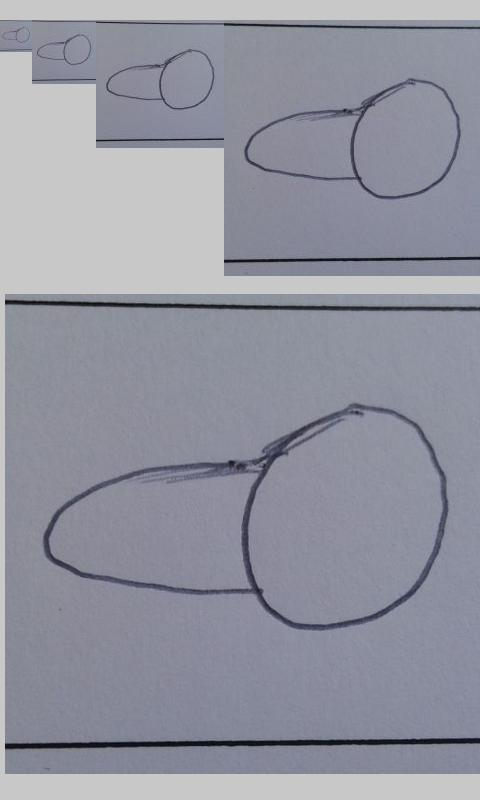switch: (42, 403, 450, 633), (243, 78, 462, 200), (104, 49, 216, 110), (36, 33, 92, 66), (1, 26, 31, 43)
